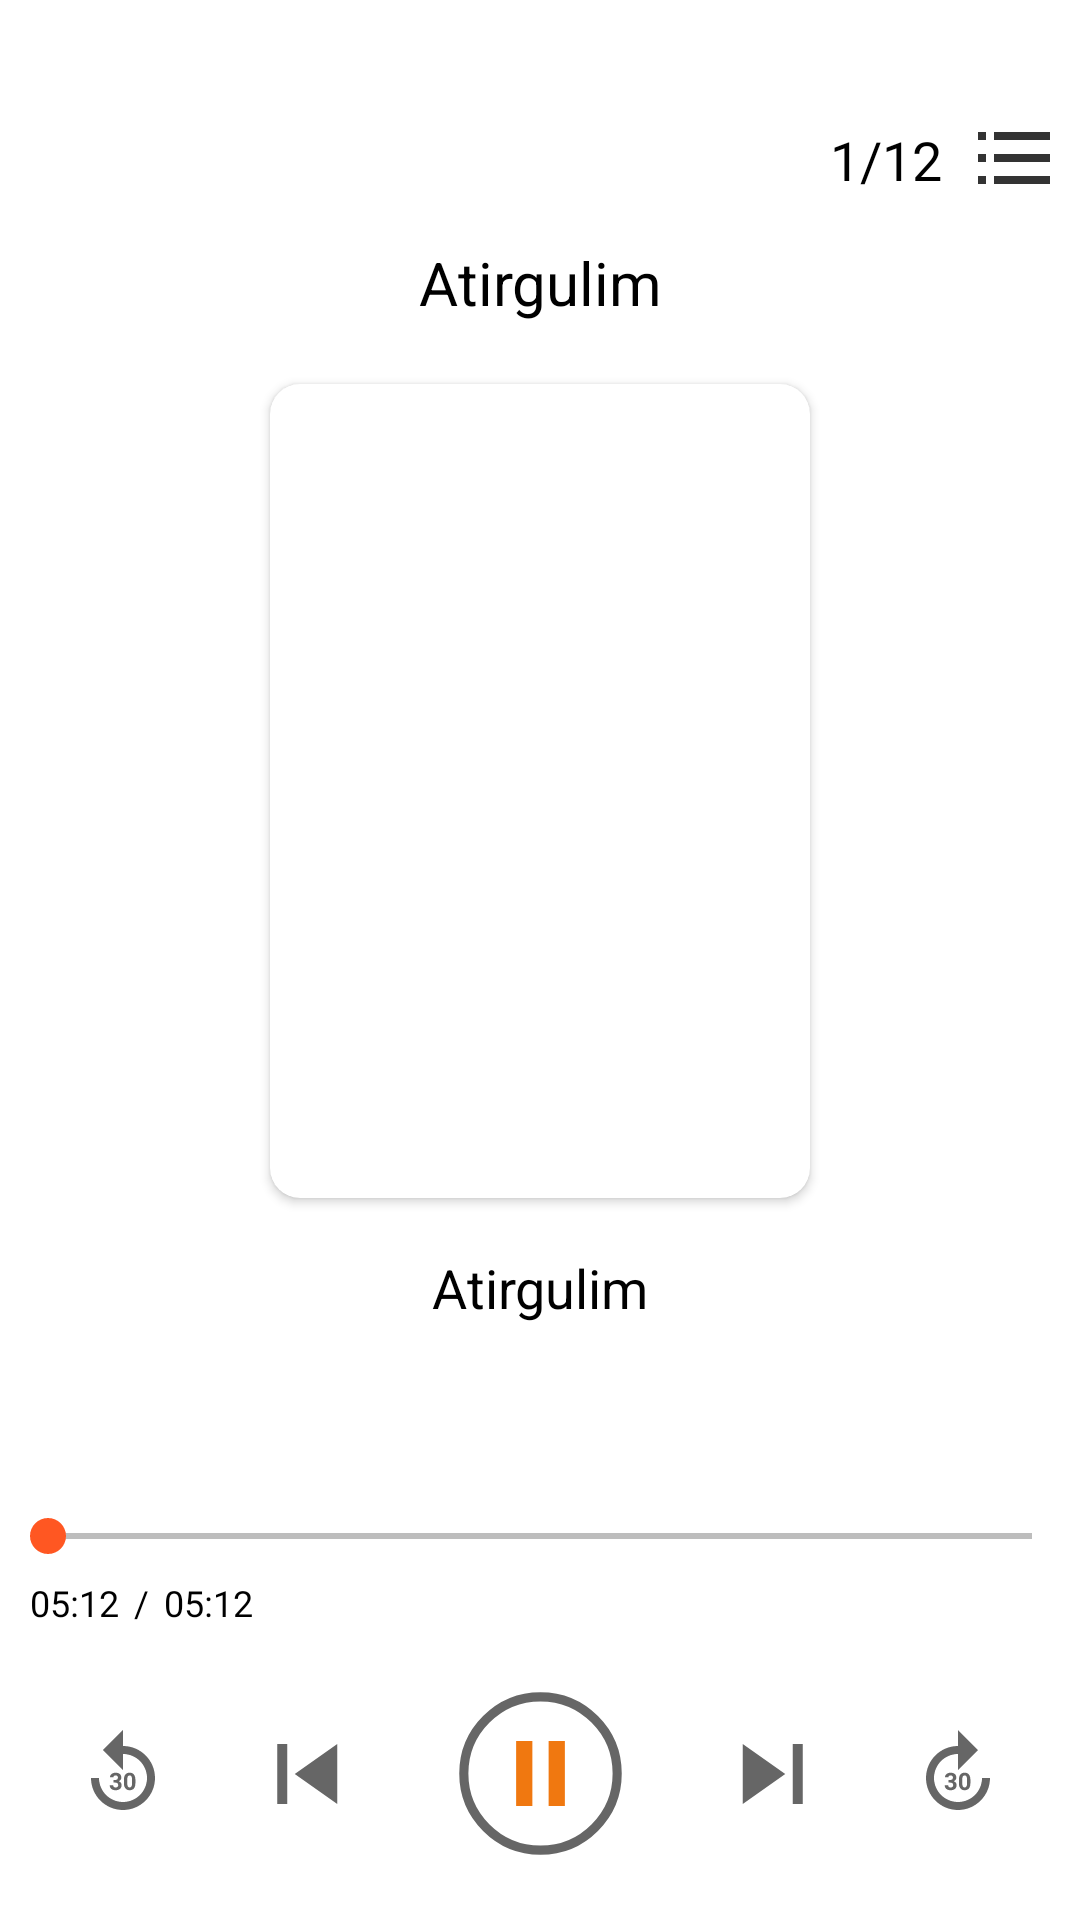

Icon bounding boxes for this 1080px×1920px phone screenshot, format region(x1, y1, x2, y2):
forward: region(926, 1730, 990, 1810)
paouse: region(459, 1692, 622, 1855)
replay: region(91, 1730, 155, 1810)
skip next: region(742, 1744, 803, 1804)
skip previous: region(277, 1744, 338, 1804)
